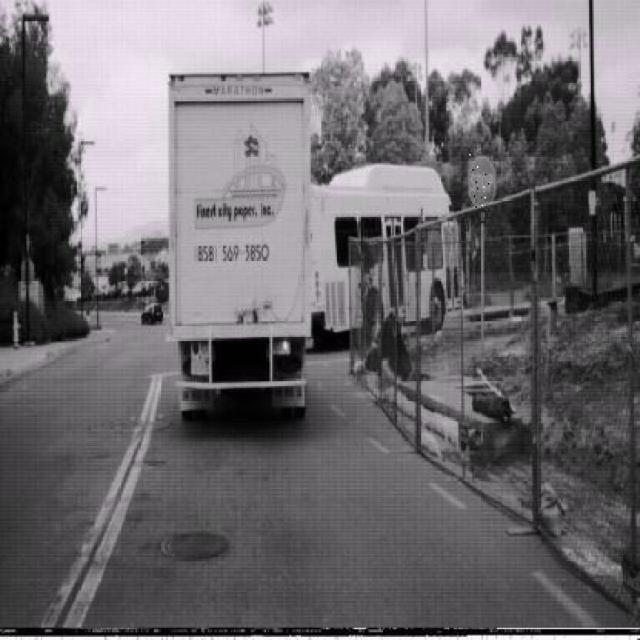stop: (468, 154, 496, 210)
